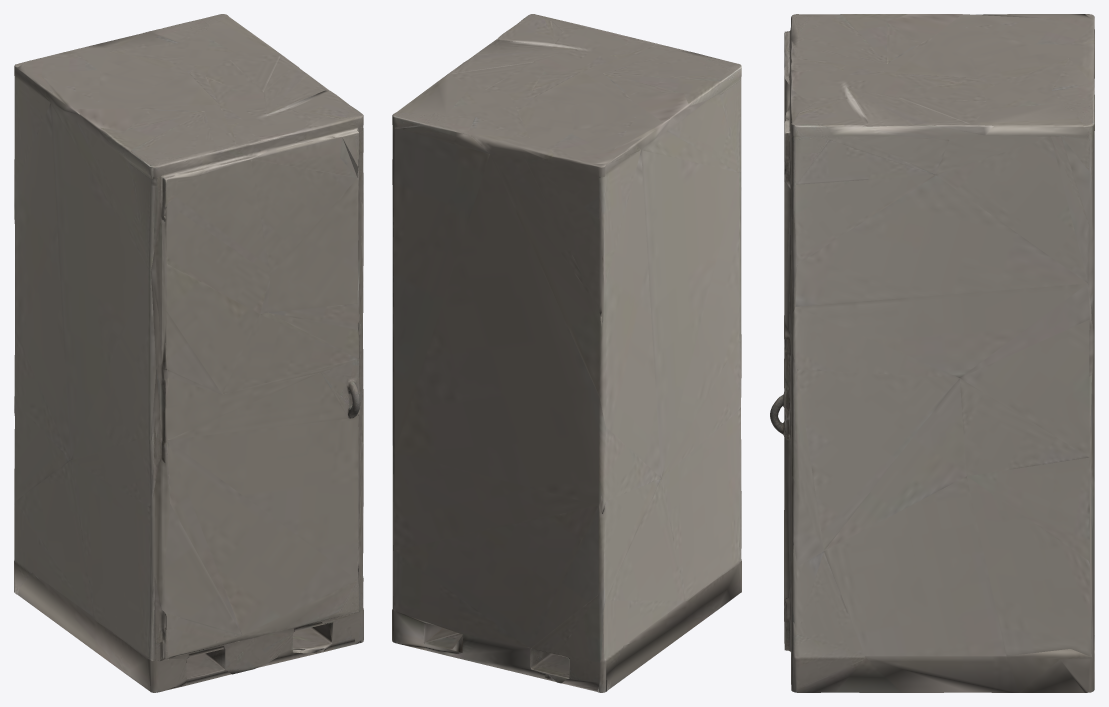
The model's file is cooling_unit.glb.
The picture shows the model from 3 angles, left to right: view 1: azimuth 30°, elevation 25°; view 2: azimuth 150°, elevation 25°; view 3: azimuth 270°, elevation 25°; orthographic projection. The views are drawn at different scales.
Size of the model in its own units: 0.8087 by 1.9 by 0.9853.
1 material, 1 textured.
